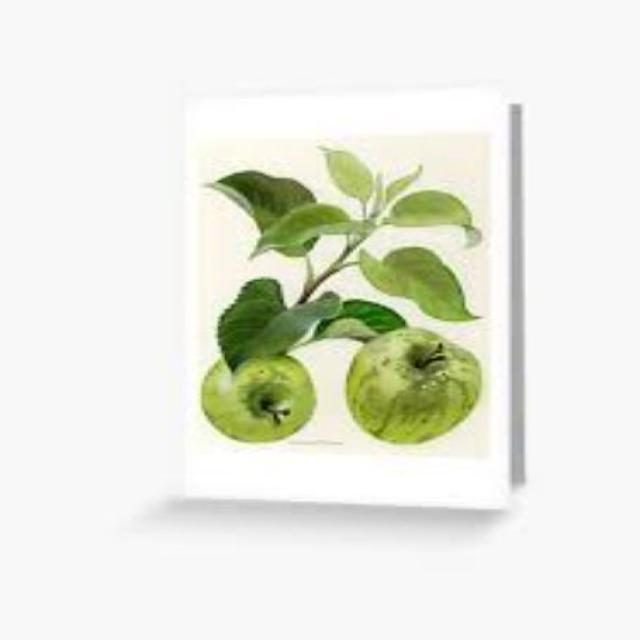Rotten Apple: (332, 323, 501, 455), (168, 330, 326, 448)
